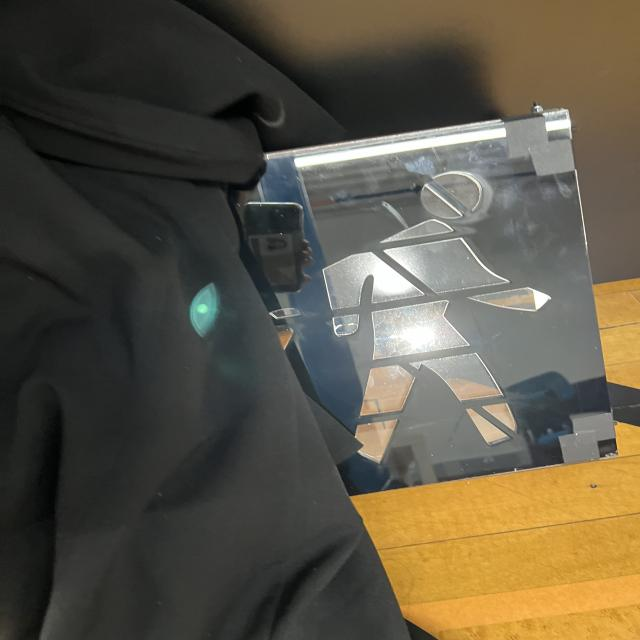go: (234, 114, 614, 487)
